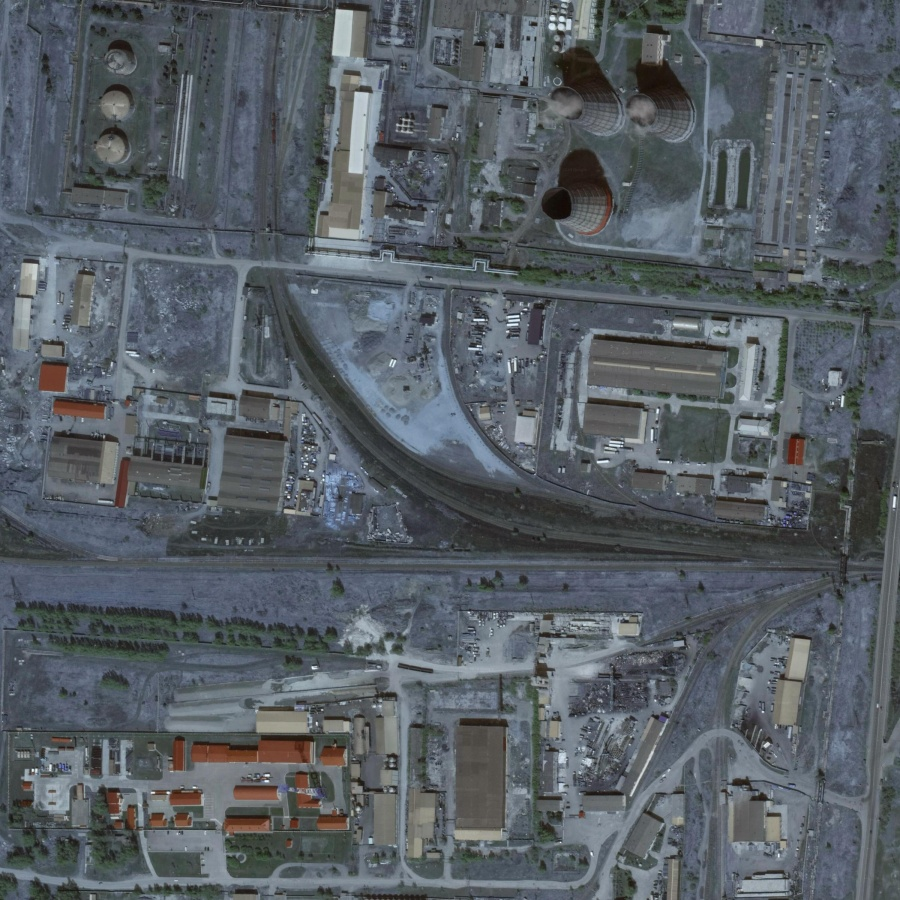PowerPlant: (533, 18, 722, 273)
